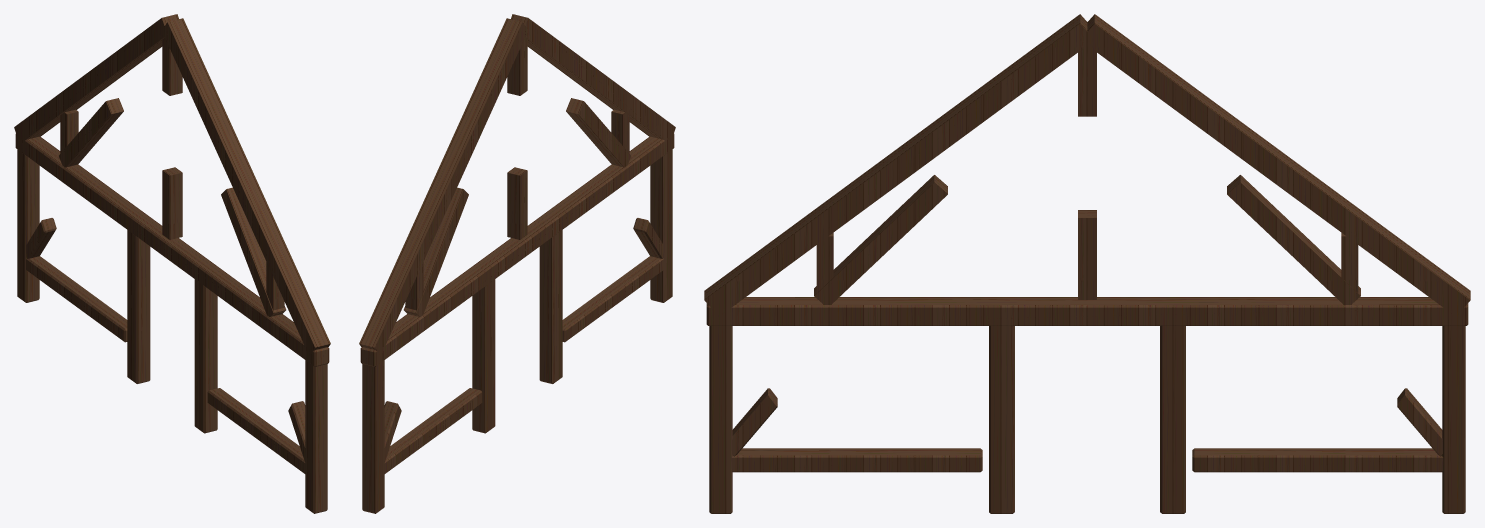
Rendered from SM_HH_V2_Timber_Front.fbx.
3 views of the same model, side by side, from view 1: azimuth 30°, elevation 25°; view 2: azimuth 150°, elevation 25°; view 3: azimuth 270°, elevation 25° (orthographic). The views are drawn at different scales.
Visible parts, largest first — view 1: HH_V2_Timber_Front; view 2: HH_V2_Timber_Front; view 3: HH_V2_Timber_Front.
Boxes of the visible parts, x1,y1,x2,y2 form: HH_V2_Timber_Front: (14, 14, 330, 513); HH_V2_Timber_Front: (359, 14, 675, 513); HH_V2_Timber_Front: (704, 14, 1470, 513).
Size of the model in its own units: 8.91 by 0.27 by 6.3.
